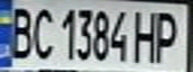1: (54, 3, 78, 61)
3: (72, 3, 93, 61)
4: (109, 7, 133, 63)
8: (90, 5, 112, 62)
B: (3, 2, 36, 61)
C: (27, 2, 57, 61)
H: (130, 7, 163, 63)
P: (148, 7, 187, 64)
